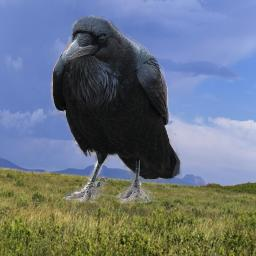Crow: (50, 14, 182, 203)
